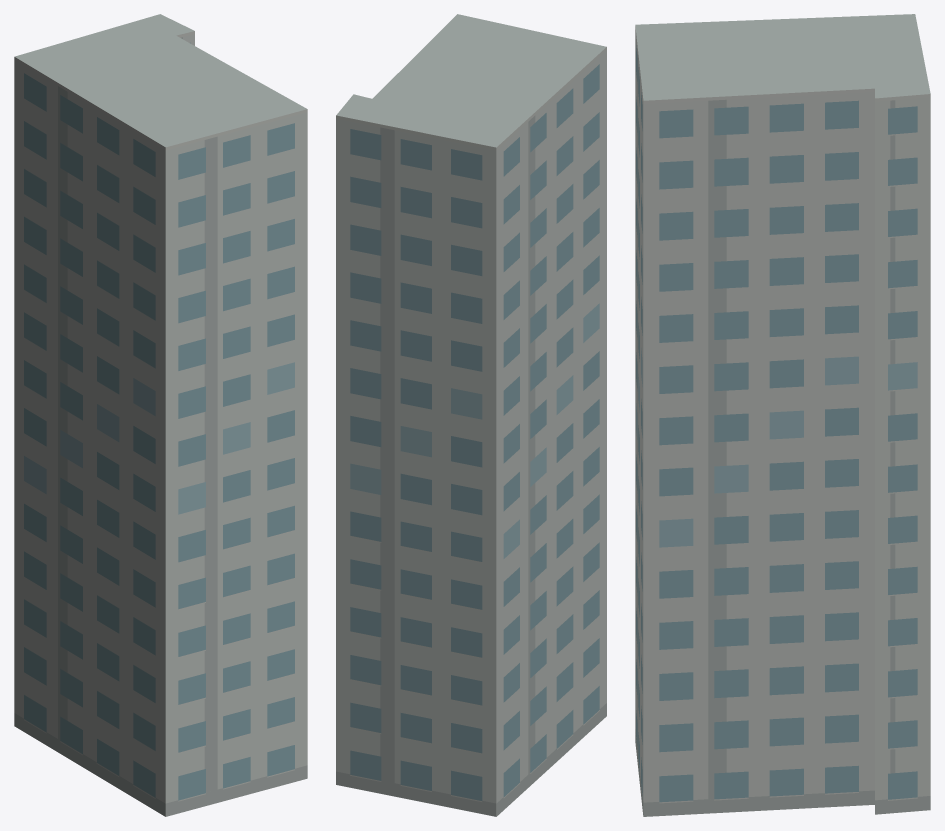
File: residential-ec6ae8ba-a549-4c81-828e-56b586b69c62.glb
3 renders of one model, left to right at view 1: azimuth 30°, elevation 25°; view 2: azimuth 150°, elevation 25°; view 3: azimuth 270°, elevation 25°, orthographic. The views are drawn at different scales.
Visible parts, largest first — view 1: residential-ec6ae8ba-a549-4c81-828e-56b586b69c62.tmp; view 2: residential-ec6ae8ba-a549-4c81-828e-56b586b69c62.tmp; view 3: residential-ec6ae8ba-a549-4c81-828e-56b586b69c62.tmp.
Part boxes in pixels (x1,y1,x2,y2): residential-ec6ae8ba-a549-4c81-828e-56b586b69c62.tmp: (14,14,307,816); residential-ec6ae8ba-a549-4c81-828e-56b586b69c62.tmp: (336,14,606,816); residential-ec6ae8ba-a549-4c81-828e-56b586b69c62.tmp: (635,14,930,816).
Bounding box in the file's own units: 13.52 × 52 × 19.45.
